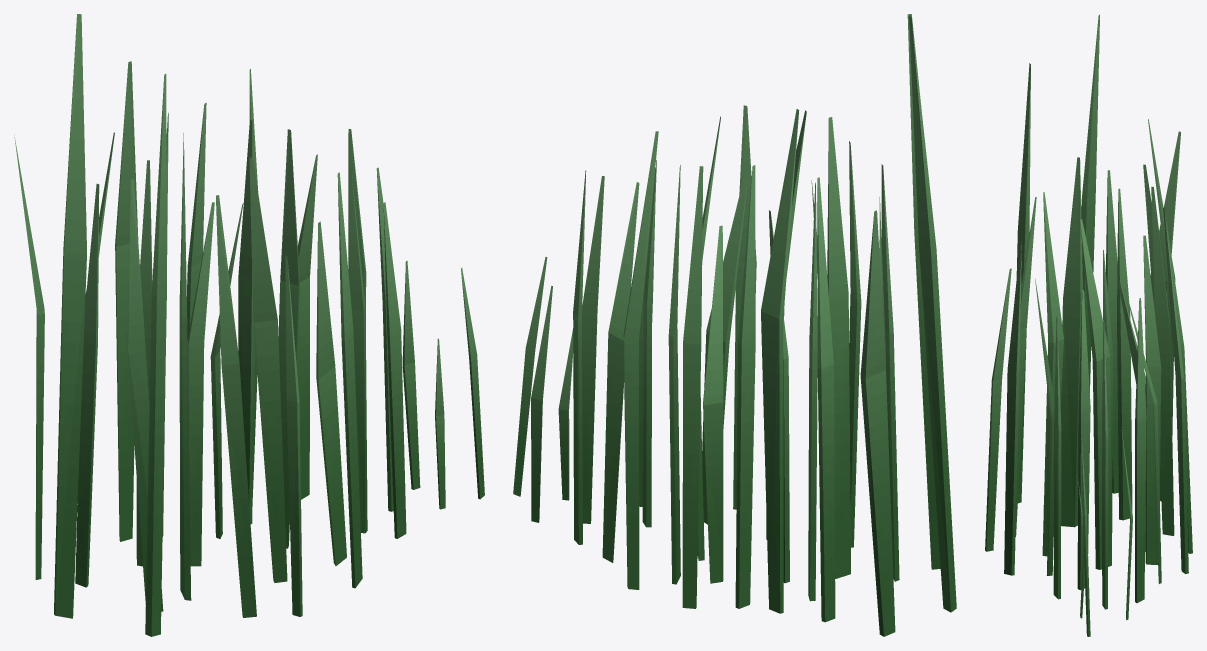
The model's file is tufo_capim.glb.
3 views of the same model, side by side, from view 1: azimuth 30°, elevation 25°; view 2: azimuth 150°, elevation 25°; view 3: azimuth 270°, elevation 25° (orthographic). The views are drawn at different scales.
Visible parts, largest first — view 1: GrassLumpLargeFTall; view 2: GrassLumpLargeFTall; view 3: GrassLumpLargeFTall.
Boxes of the visible parts, <box> form: GrassLumpLargeFTall: <box>14,14,484,636</box>; GrassLumpLargeFTall: <box>513,14,956,636</box>; GrassLumpLargeFTall: <box>985,14,1192,636</box>.
Bounding box in the file's own units: 0.8769 × 1.14 × 0.4495.
1 material, 1 textured.
